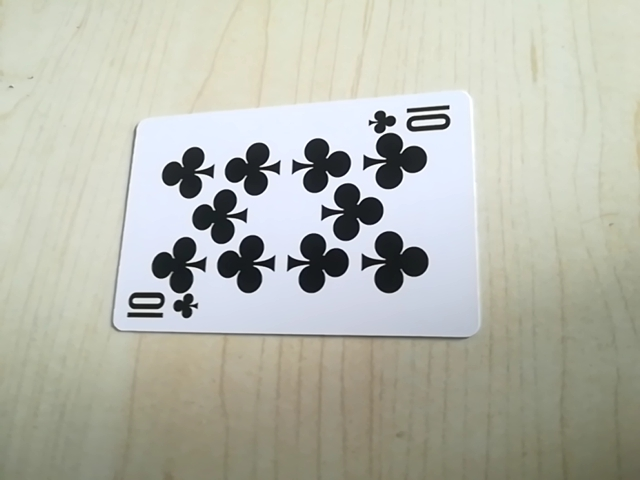mh 10: (364, 98, 456, 136), (120, 289, 199, 327)
